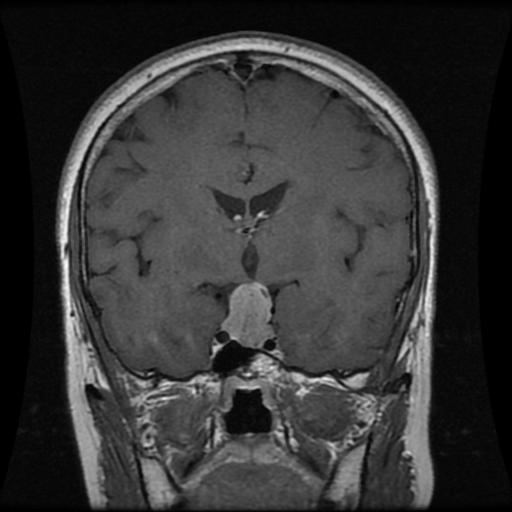Pituirity_tumour: (220, 283, 274, 345)
